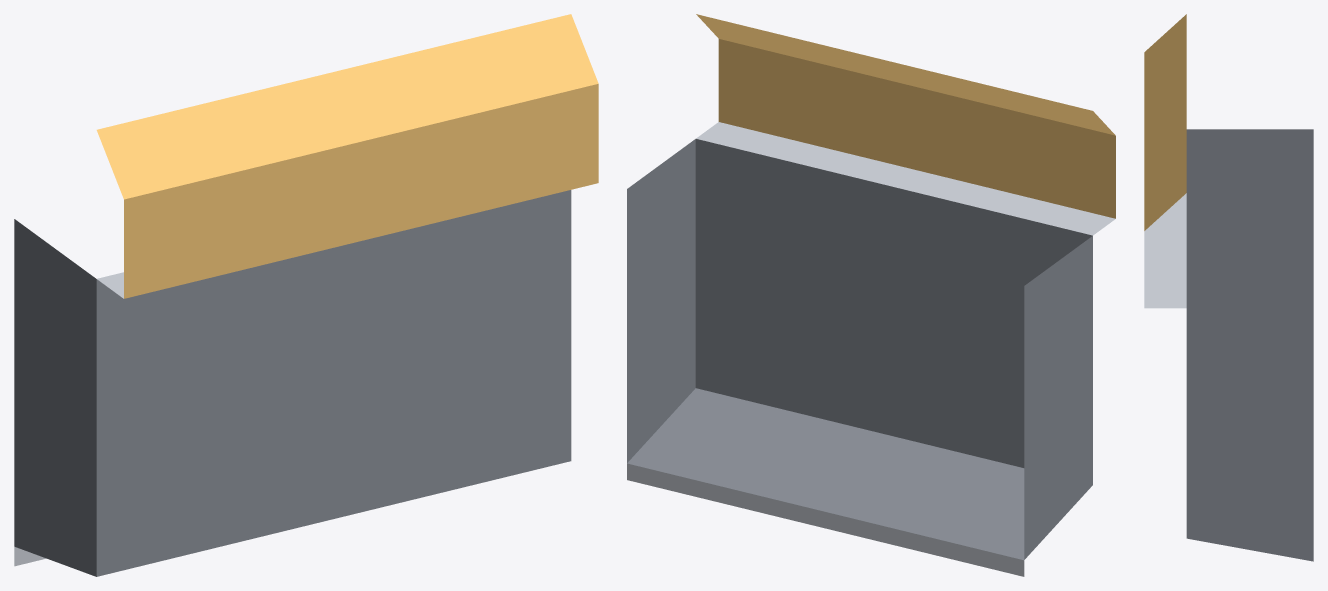
3 views of the same model, side by side, from view 1: azimuth 30°, elevation 25°; view 2: azimuth 150°, elevation 25°; view 3: azimuth 270°, elevation 25° (orthographic). The views are drawn at different scales.
Size of the model in its own units: 1 by 1 by 0.4.
